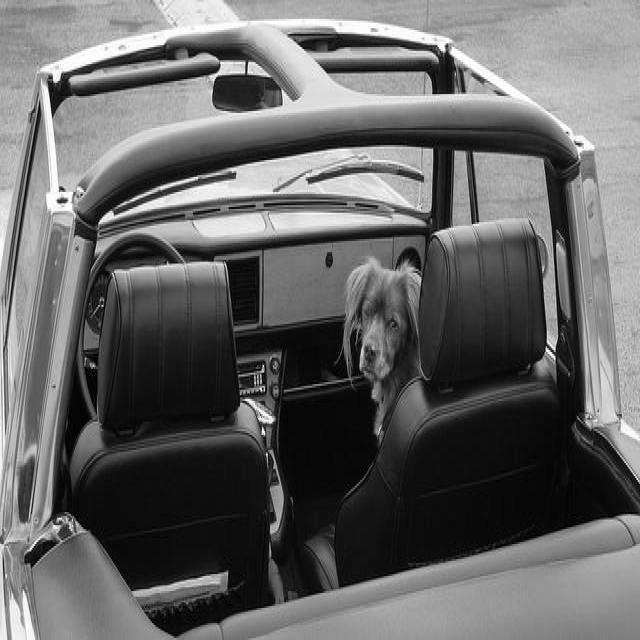vehicle: (0, 8, 639, 634)
